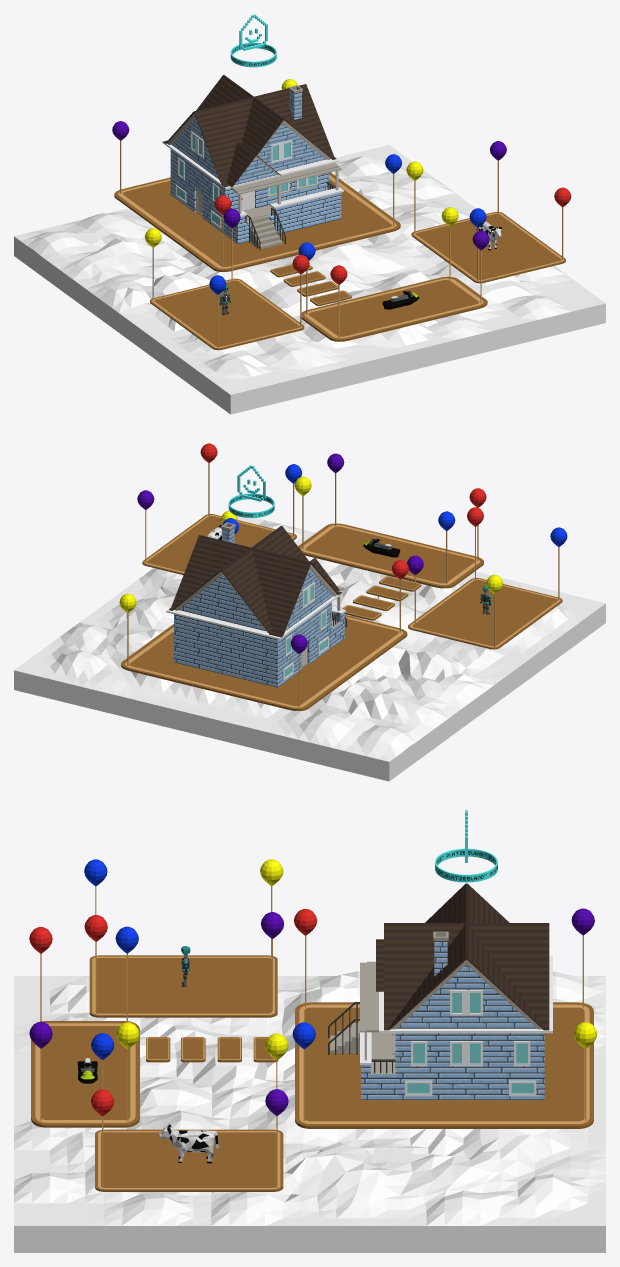
3 views of the same model, one above another, from view 1: azimuth 30°, elevation 25°; view 2: azimuth 150°, elevation 25°; view 3: azimuth 270°, elevation 25° (orthographic). The views are drawn at different scales.
Visible parts, largest first — view 1: Cube.013, Cube.547, TYPE_PREMIUM; view 2: Cube.013, Cube.547, TYPE_PREMIUM; view 3: Cube.013, Cube.547, ANIMAL_VACA, TYPE_PREMIUM.
Part boxes in pixels (left/top/right/bottom): Cube.013: left=14, top=79, right=605, bottom=414; Cube.547: left=162, top=75, right=343, bottom=250; TYPE_PREMIUM: left=230, top=14, right=276, bottom=67; Cube.013: left=14, top=443, right=605, bottom=781; Cube.547: left=166, top=522, right=346, bottom=687; TYPE_PREMIUM: left=228, top=465, right=274, bottom=517; Cube.013: left=14, top=859, right=605, bottom=1252; Cube.547: left=328, top=883, right=552, bottom=1099; ANIMAL_VACA: left=158, top=1124, right=218, bottom=1163; TYPE_PREMIUM: left=435, top=810, right=497, bottom=882.
Bounding box in the file's own units: 4000 × 2447 × 4000.
30 materials, 3 textured.
